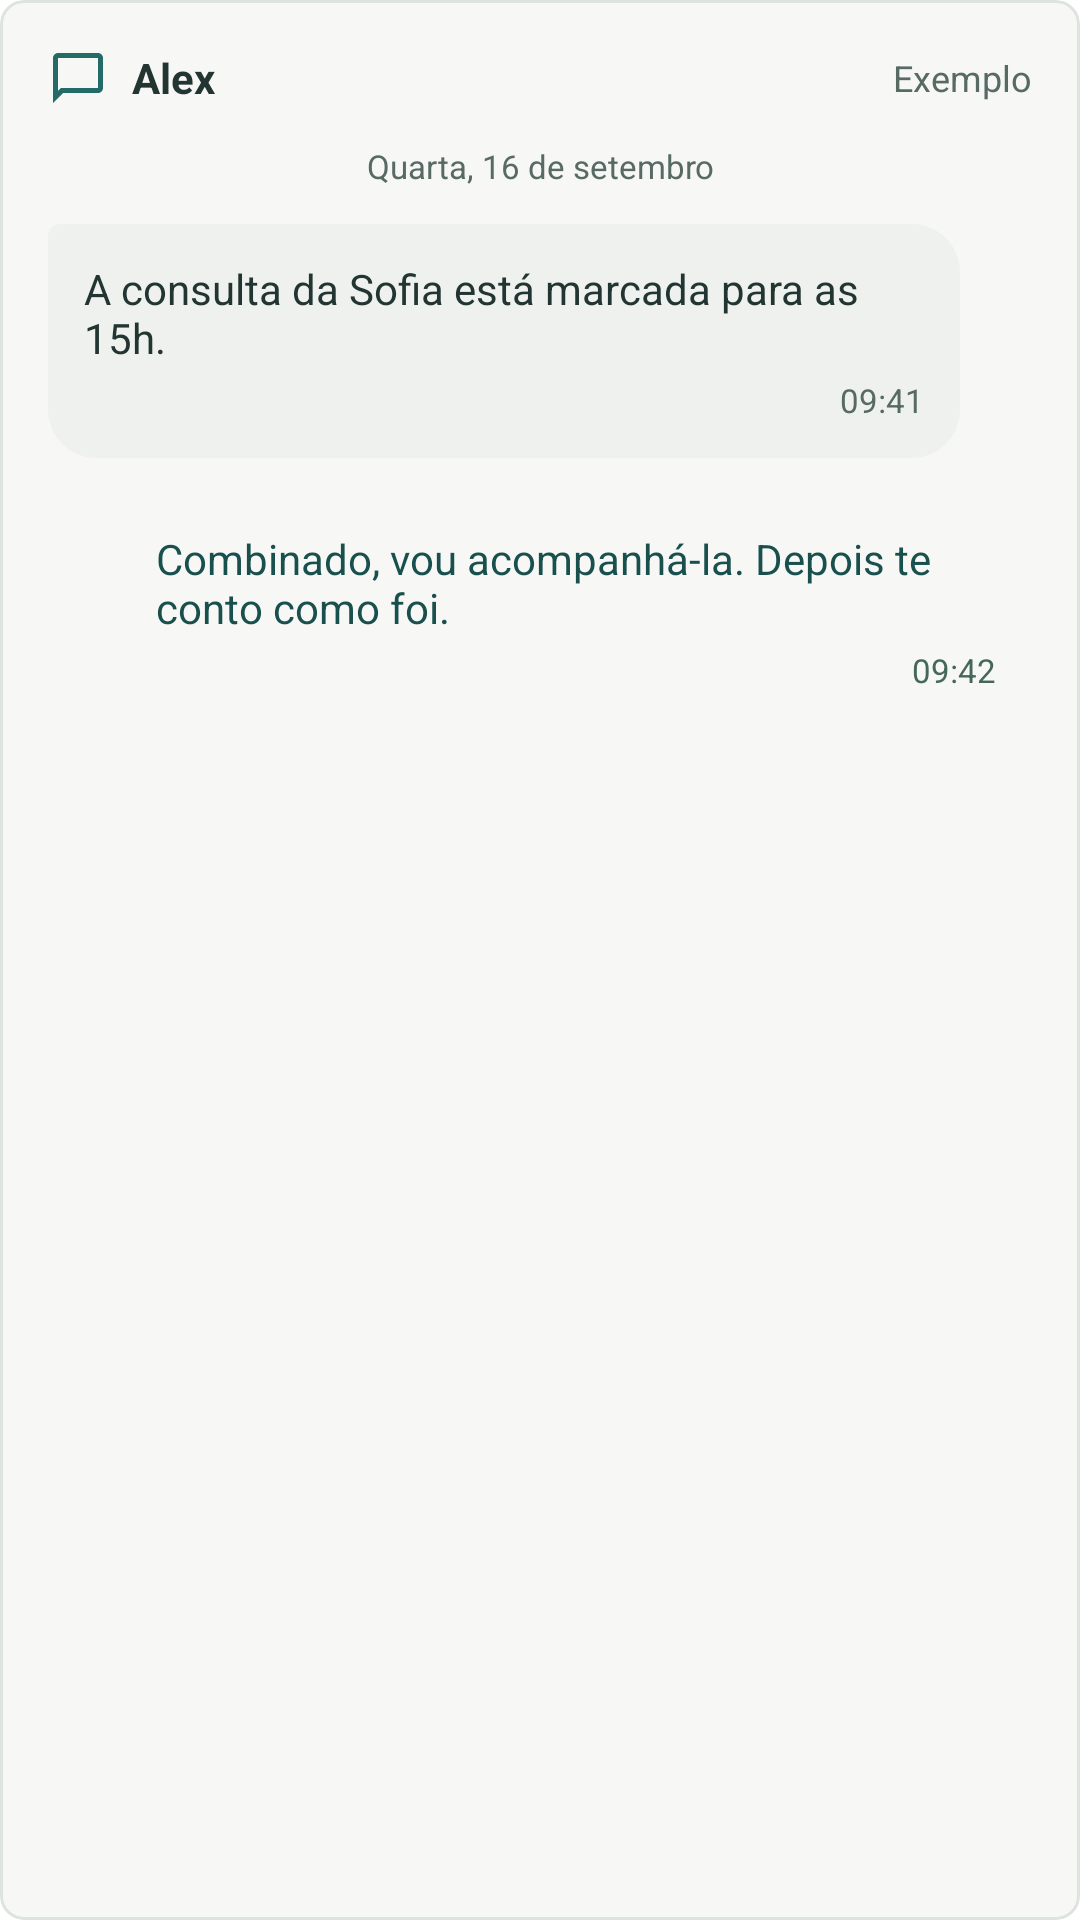

Icon bounding boxes for this 1080*1920 phone screenshot, format {"x1": x1, "y1": y1, "x2": x2, "y2": y2}:
chat: {"x1": 53, "y1": 53, "x2": 103, "y2": 103}
